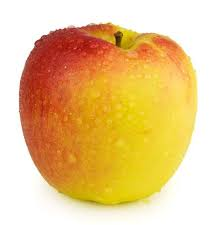apple: (23, 30, 196, 206)
